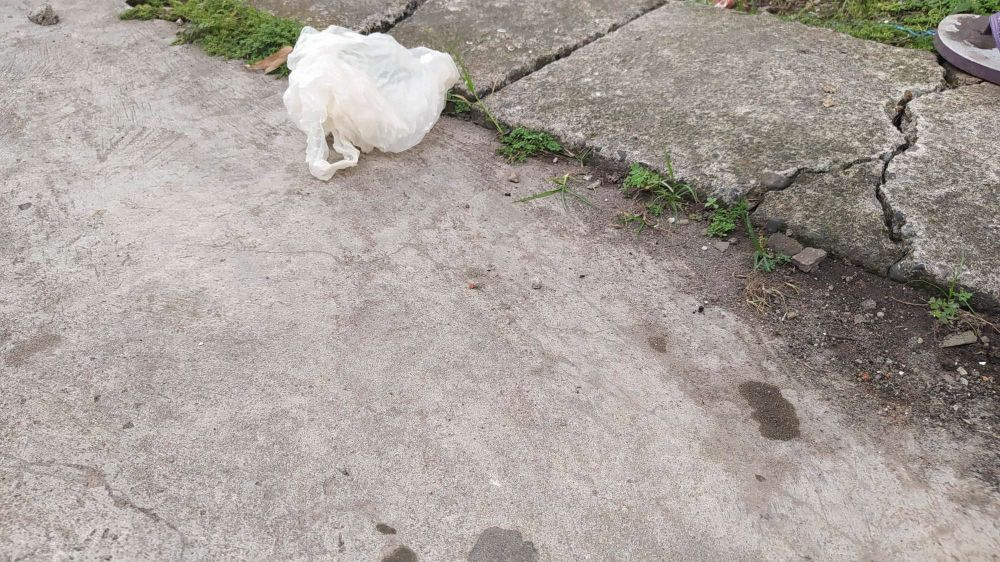plastik: (265, 17, 468, 178)
